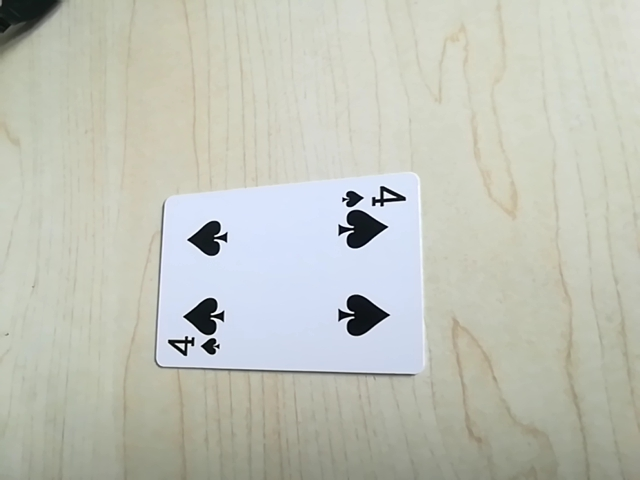ht 4: (158, 332, 226, 363), (338, 181, 404, 211)
